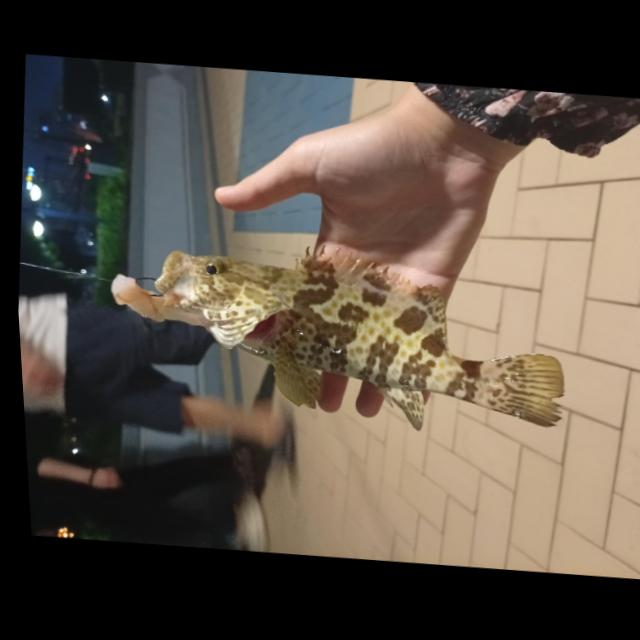Groupers: (140, 228, 577, 449)
